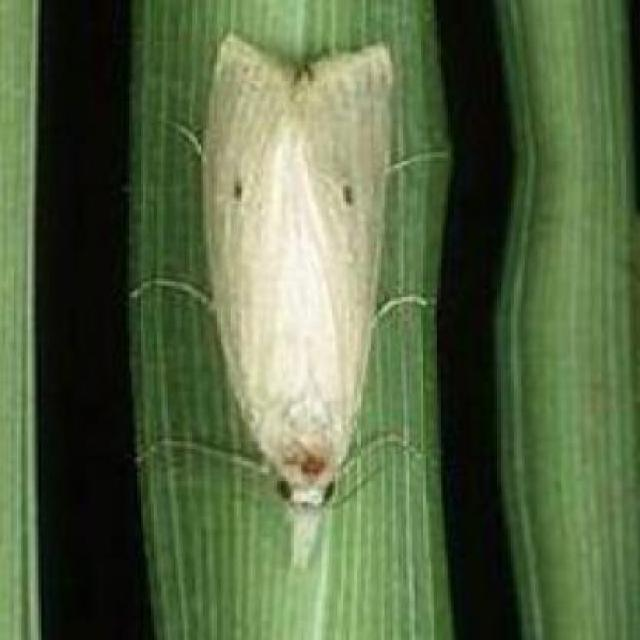stem-borer: (133, 31, 436, 575)
